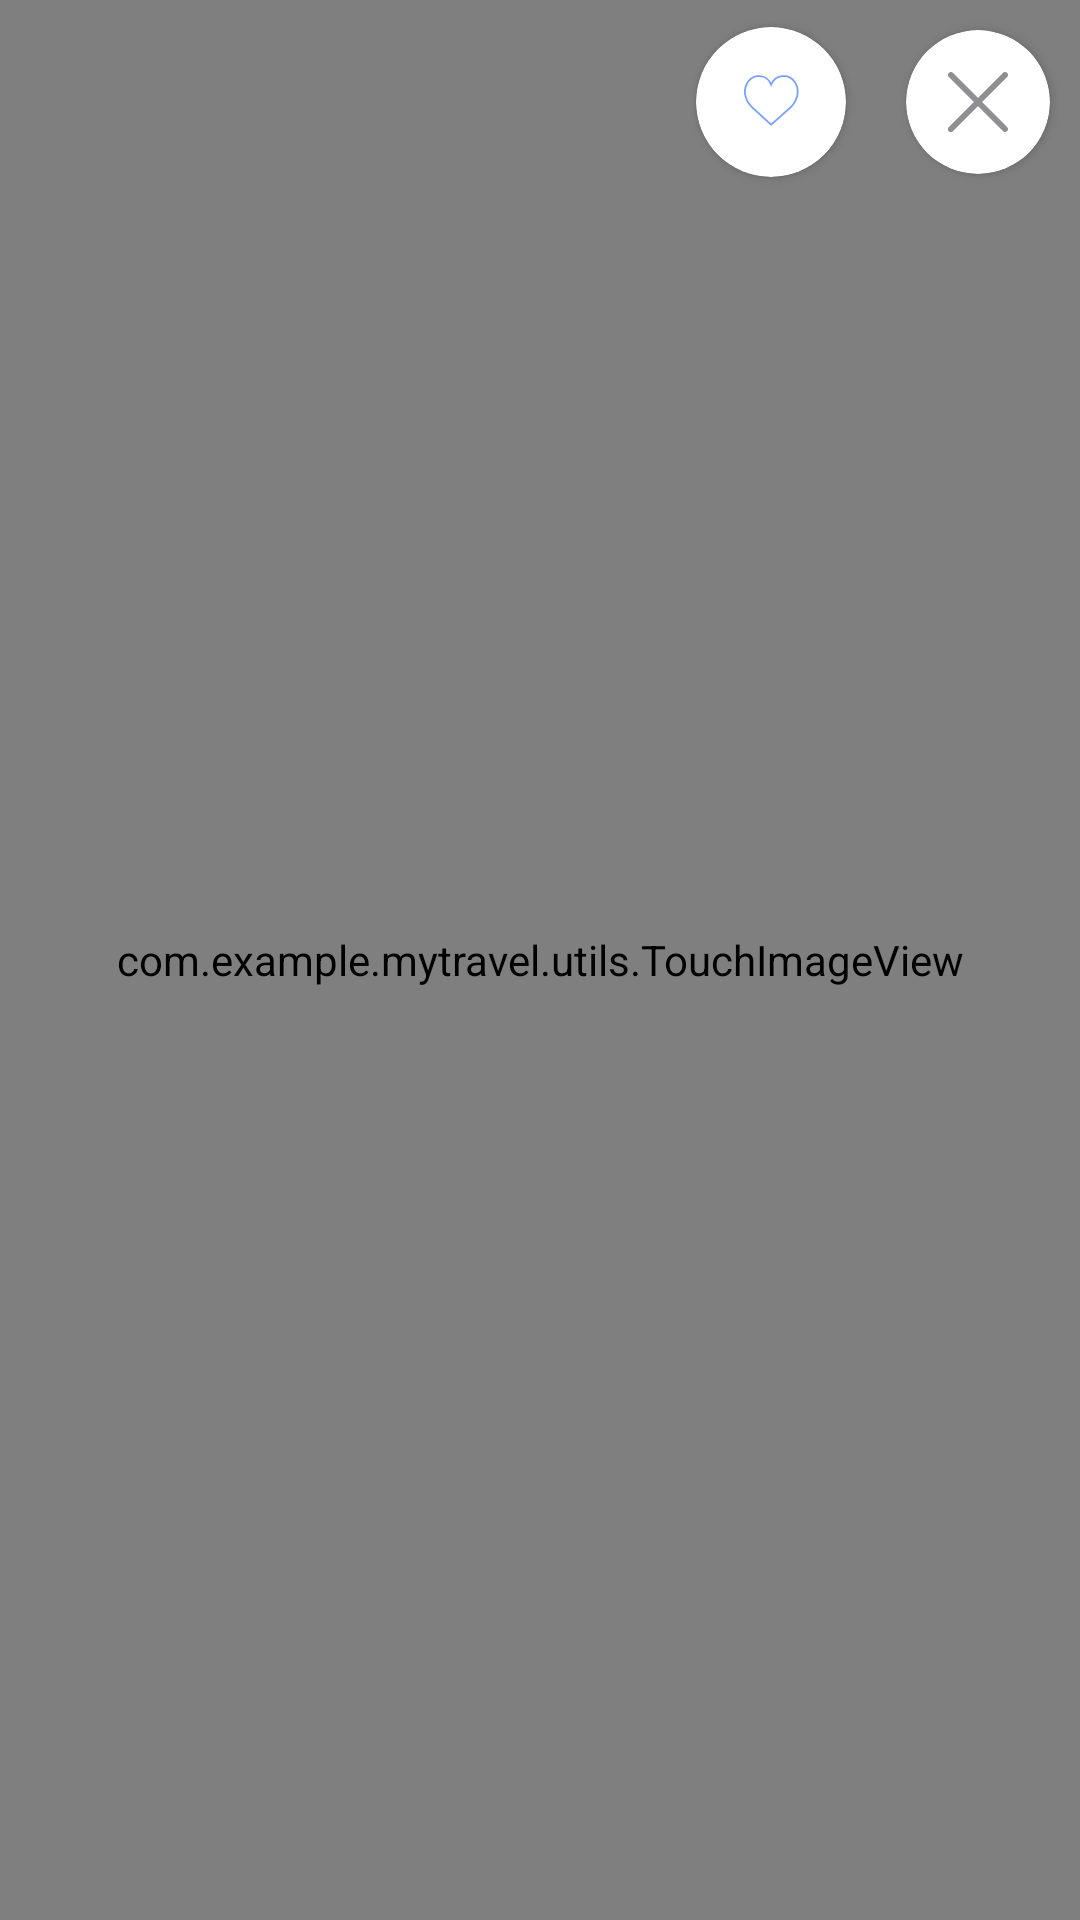

Icon click points for this 1080w x 1920h phone screenshot, format (x,y):
close: (978,102)
